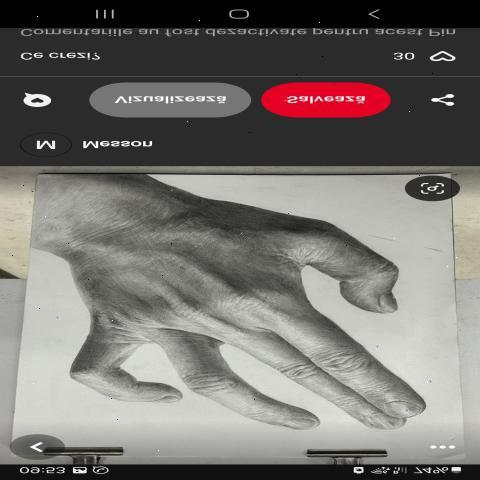Hands: (51, 191, 446, 456)
